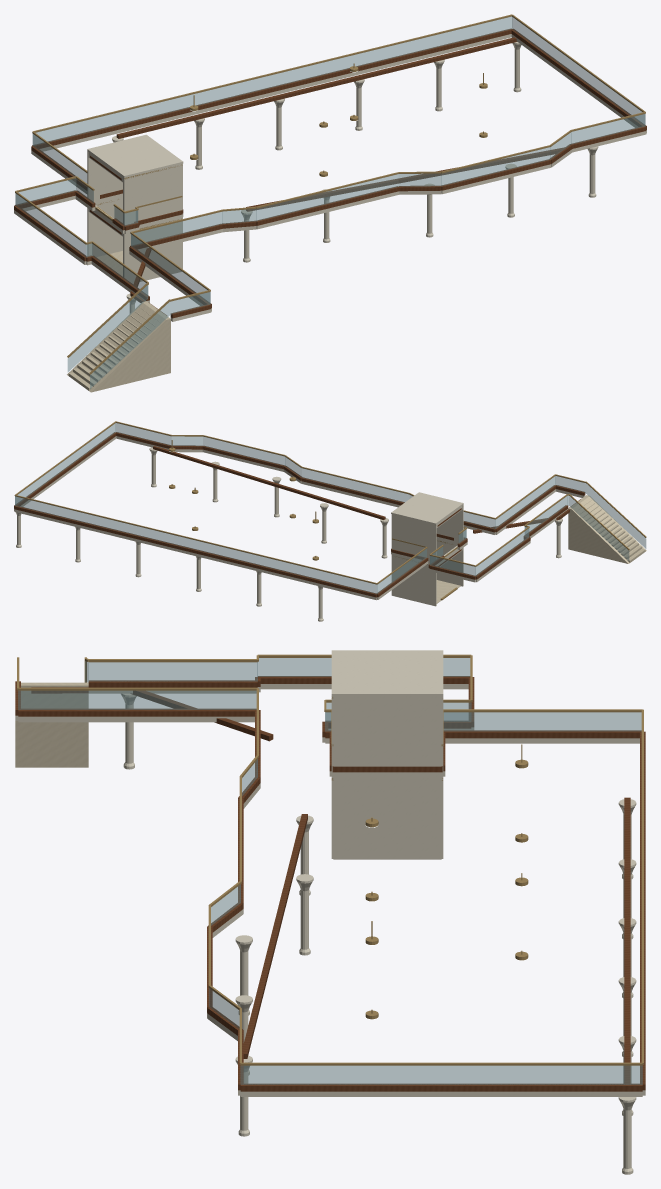
Rendered from AST-DIN-004.glb.
The picture shows the model from 3 angles, top to bottom: view 1: azimuth 30°, elevation 25°; view 2: azimuth 150°, elevation 25°; view 3: azimuth 270°, elevation 25°; orthographic projection. The views are drawn at different scales.
Visible parts, largest first — view 1: MEZ_GuardGlass_5, MEZ_LiftShaftSide_1, MEZ_StairCarcass, MEZ_GuardPlinth_5, MEZ_LiftShaftSide_-1, MEZ_VisibleEdgeGirder_0, MEZ_LiftClosedCap, MEZ_ProfiledEdge_5, MEZ_GuardGlass_22, MEZ_GuardGlass_4, MEZ_VisibleEdgeGirder_1, MEZ_GuardGlass_1 (+17 smaller); view 2: MEZ_GuardGlass_5, MEZ_LiftShaftSide_-1, MEZ_StairCarcass, MEZ_GuardPlinth_5, MEZ_LiftShaftSide_1, MEZ_LiftClosedCap, MEZ_ProfiledEdge_5, MEZ_VisibleEdgeGirder_1, MEZ_GuardGlass_22, MEZ_GuardGlass_4, MEZ_GuardCap_5, MEZ_GuardGlass_1 (+17 smaller); view 3: MEZ_LiftShaftRear, MEZ_GuardGlass_4, MEZ_GuardGlass_19, MEZ_LiftClosedCap, MEZ_StairCarcass, MEZ_GuardGlass_6, MEZ_GuardPlinth_4, MEZ_GuardGlass_17, MEZ_ProfiledEdge_4, MEZ_GuardPlinth_19, MEZ_VisibleEdgeGirder_0, MEZ_VisibleEdgeGirder_1 (+15 smaller).
Part boxes in pixels (x1,y1,x2,y2): MEZ_GuardGlass_5: [33, 16, 511, 145]; MEZ_LiftShaftSide_1: [123, 161, 182, 283]; MEZ_StairCarcass: [67, 301, 170, 392]; MEZ_GuardPlinth_5: [32, 28, 512, 148]; MEZ_LiftShaftSide_-1: [87, 136, 143, 256]; MEZ_VisibleEdgeGirder_0: [116, 37, 516, 138]; MEZ_LiftClosedCap: [88, 134, 183, 177]; MEZ_ProfiledEdge_5: [39, 34, 511, 151]; MEZ_GuardGlass_22: [256, 174, 398, 220]; MEZ_GuardGlass_4: [512, 17, 645, 125]; MEZ_VisibleEdgeGirder_1: [246, 147, 564, 211]; MEZ_GuardGlass_1: [441, 147, 549, 185]; MEZ_GuardGlass_5: [15, 496, 376, 593]; MEZ_LiftShaftSide_-1: [391, 512, 436, 606]; MEZ_StairCarcass: [568, 495, 646, 563]; MEZ_GuardPlinth_5: [14, 505, 376, 597]; MEZ_LiftShaftSide_1: [419, 492, 463, 586]; MEZ_LiftClosedCap: [391, 492, 463, 524]; MEZ_ProfiledEdge_5: [14, 509, 376, 600]; MEZ_VisibleEdgeGirder_1: [153, 446, 385, 519]; MEZ_GuardGlass_22: [302, 468, 409, 502]; MEZ_GuardGlass_4: [15, 423, 115, 505]; MEZ_GuardCap_5: [15, 495, 376, 584]; MEZ_GuardGlass_1: [203, 436, 284, 465]; MEZ_LiftShaftRear: [333, 692, 441, 859]; MEZ_GuardGlass_4: [241, 1065, 642, 1084]; MEZ_GuardGlass_19: [18, 690, 256, 709]; MEZ_LiftClosedCap: [331, 650, 443, 696]; MEZ_StairCarcass: [15, 682, 88, 767]; MEZ_GuardGlass_6: [443, 712, 641, 731]; MEZ_GuardPlinth_4: [240, 1083, 642, 1091]; MEZ_GuardGlass_17: [89, 662, 257, 681]; MEZ_ProfiledEdge_4: [240, 1091, 642, 1096]; MEZ_GuardPlinth_19: [18, 708, 256, 716]; MEZ_VisibleEdgeGirder_0: [624, 797, 630, 1083]; MEZ_VisibleEdgeGirder_1: [243, 814, 307, 1058].
Size of the model in its own units: 42.86 by 7.24 by 24.42.
Materials: 6 (4 with a texture image).
